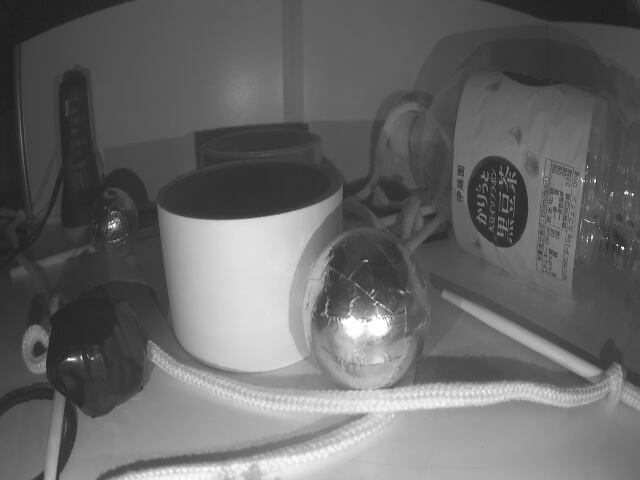Dead: (46, 295, 149, 412)
Live: (304, 225, 430, 389), (87, 190, 138, 256)
